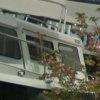Boat: (1, 4, 91, 92)
